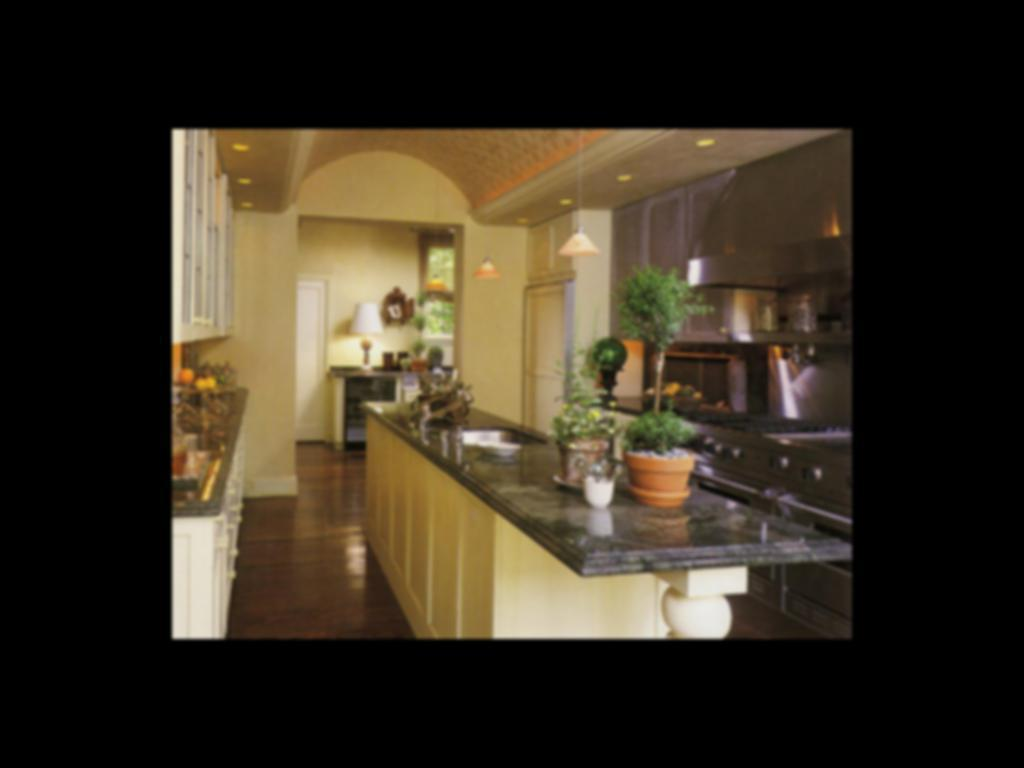Electrodomestico: (682, 412, 770, 502), (768, 441, 851, 529)
Lavaplatos: (405, 380, 561, 452)
